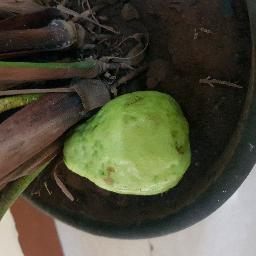Good_guava: (61, 77, 193, 200)
